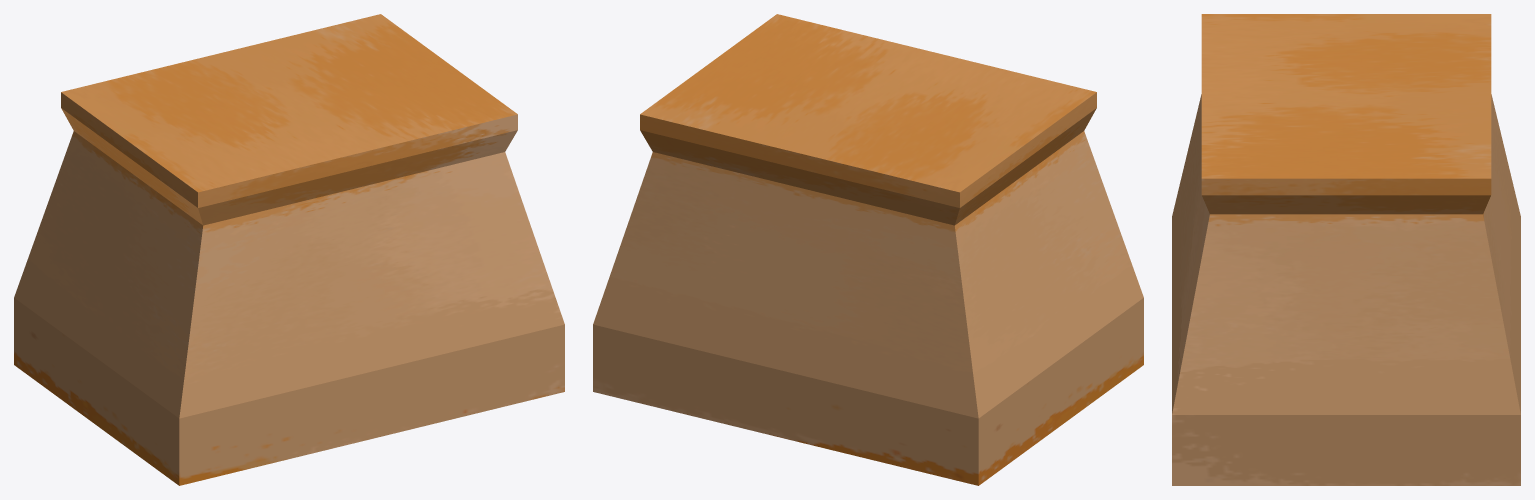
Rendered from SM_altar.fbx.
3 renders of one model, left to right at view 1: azimuth 30°, elevation 25°; view 2: azimuth 150°, elevation 25°; view 3: azimuth 270°, elevation 25°, orthographic. The views are drawn at different scales.
Visible parts, largest first — view 1: altar; view 2: altar; view 3: altar.
Part boxes in pixels (box(x1,y1,x2,y2)): altar: box(14, 14, 564, 485); altar: box(593, 14, 1143, 485); altar: box(1172, 14, 1520, 485).
Size of the model in its own units: 17.91 by 12.21 by 13.3.
